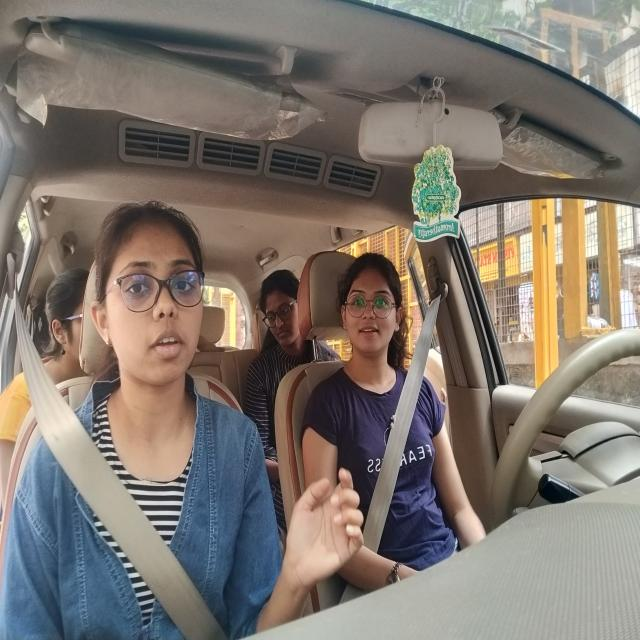person: (86, 198, 221, 407), (334, 242, 417, 372), (26, 253, 90, 379), (248, 261, 310, 355)
